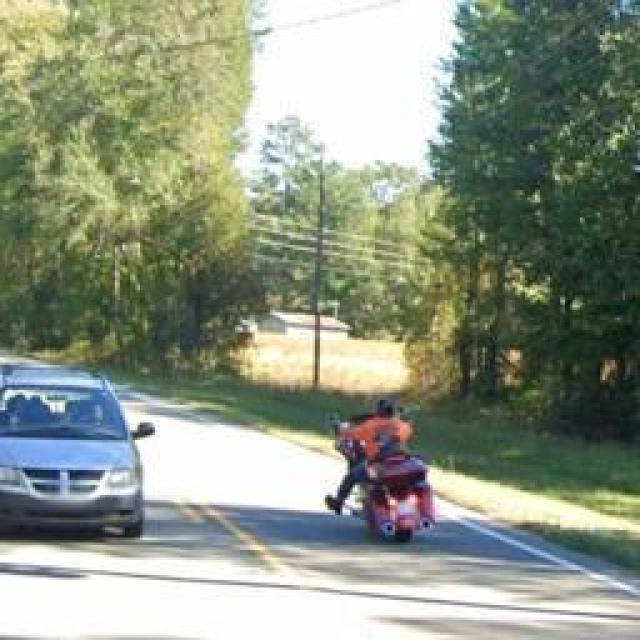car: (0, 351, 158, 553)
motorbike: (310, 400, 452, 552)
